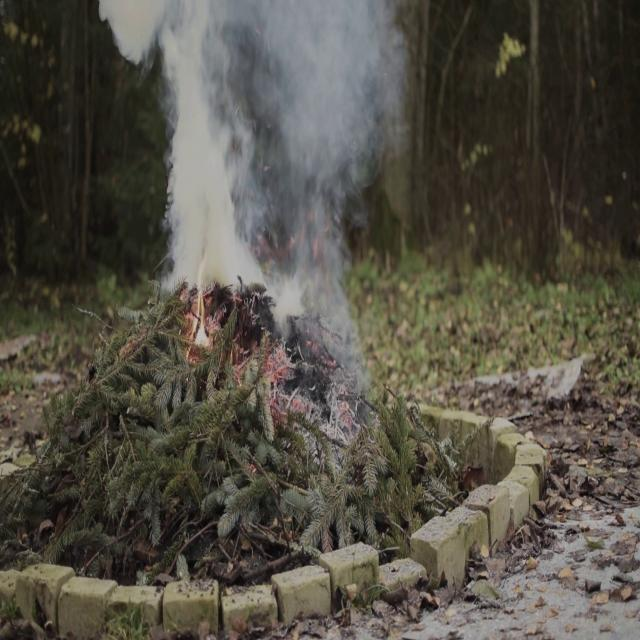Smoke: (117, 0, 267, 299), (272, 0, 407, 324)
